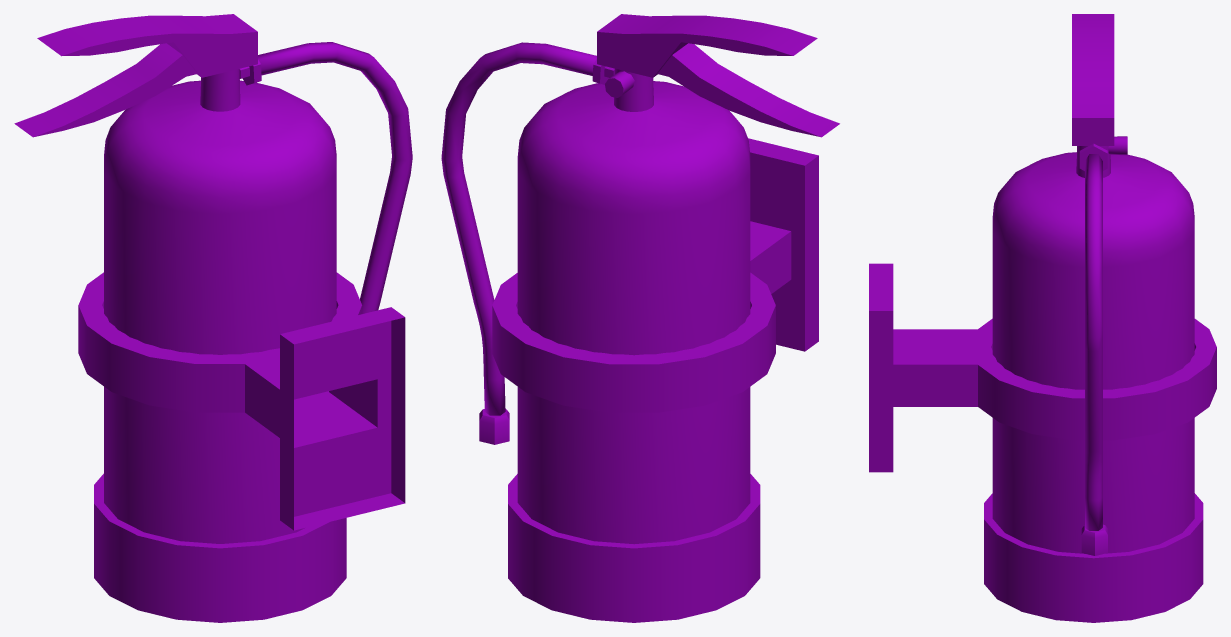
The model's file is Fire EX.fbx.
3 renders of one model, left to right at view 1: azimuth 30°, elevation 25°; view 2: azimuth 150°, elevation 25°; view 3: azimuth 270°, elevation 25°, orthographic. The views are drawn at different scales.
Parts seen in each view (by area): view 1: Fire EX; view 2: Fire EX; view 3: Fire EX.
Part boxes in pixels (<box>): Fire EX: <box>14,14,412,622</box>; Fire EX: <box>441,14,839,622</box>; Fire EX: <box>869,14,1216,622</box>.
Bounding box in the file's own units: 0.3531 × 0.4936 × 0.3165.
